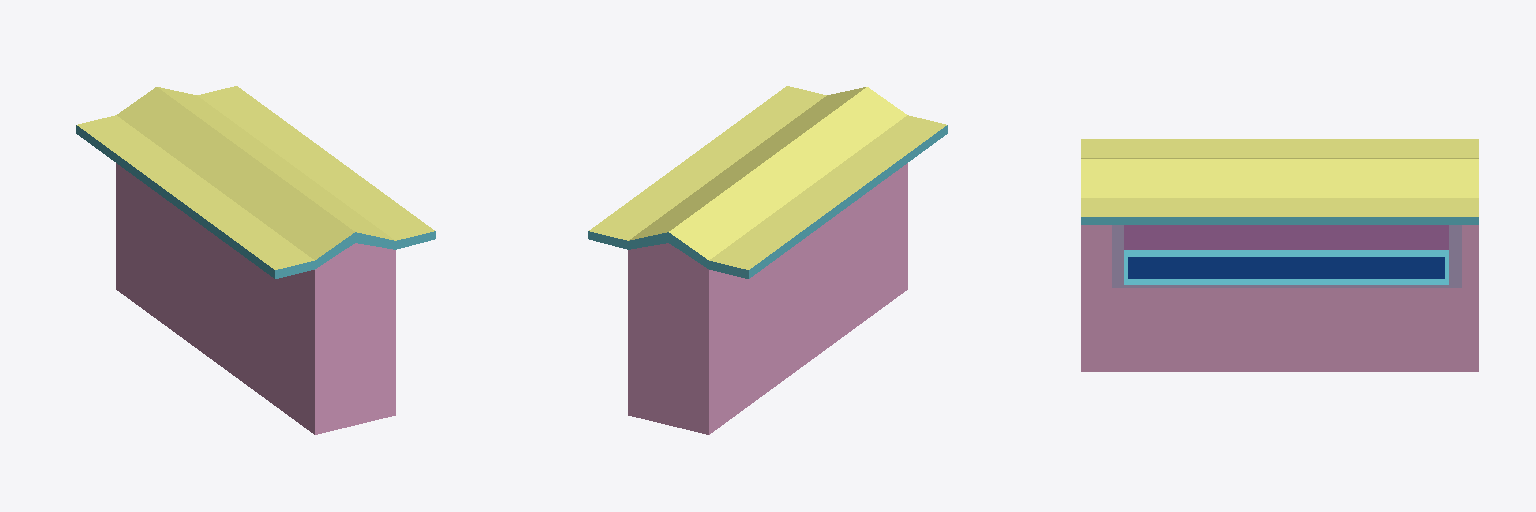
The model's file is ShoppingTent.obj.
The picture shows the model from 3 angles: view 1: azimuth 30°, elevation 25°; view 2: azimuth 150°, elevation 25°; view 3: azimuth 270°, elevation 25°; orthographic projection.
Visible parts, largest first — view 1: pCube1; view 2: pCube1; view 3: pCube1.
Part boxes in pixels (x1,y1,x2,y2): pCube1: (76,86,435,434); pCube1: (588,86,947,434); pCube1: (1081,139,1478,371).
Size of the model in its own units: 1.99 by 2.29 by 4.26.